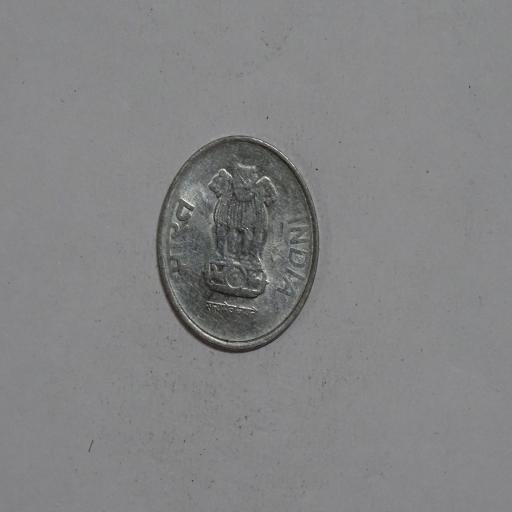rupee2: (153, 135, 320, 354)
